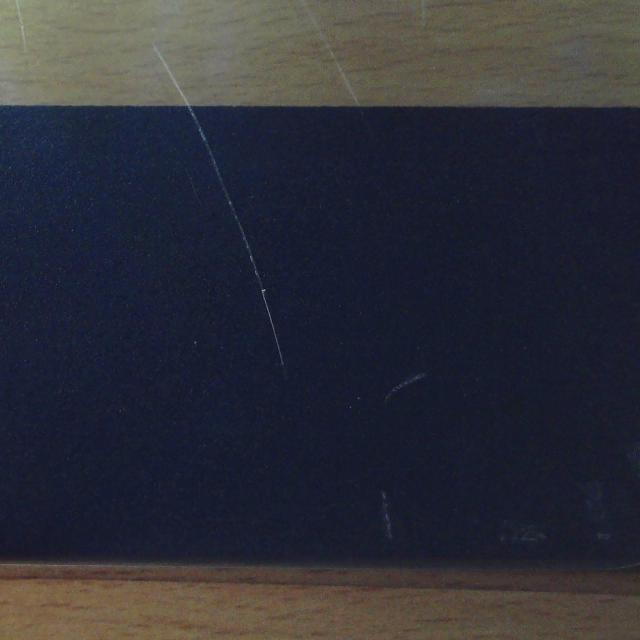defect: (181, 95, 287, 378), (380, 370, 430, 408), (374, 486, 406, 544)
